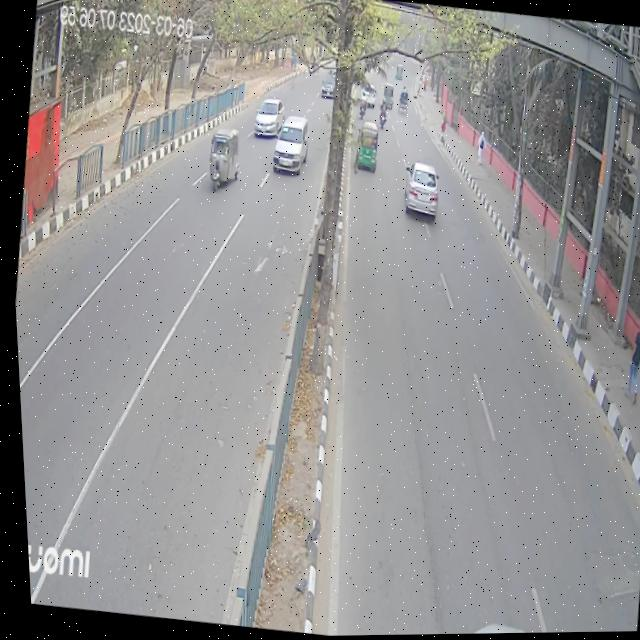cng: (196, 120, 244, 198), (350, 118, 381, 175)
